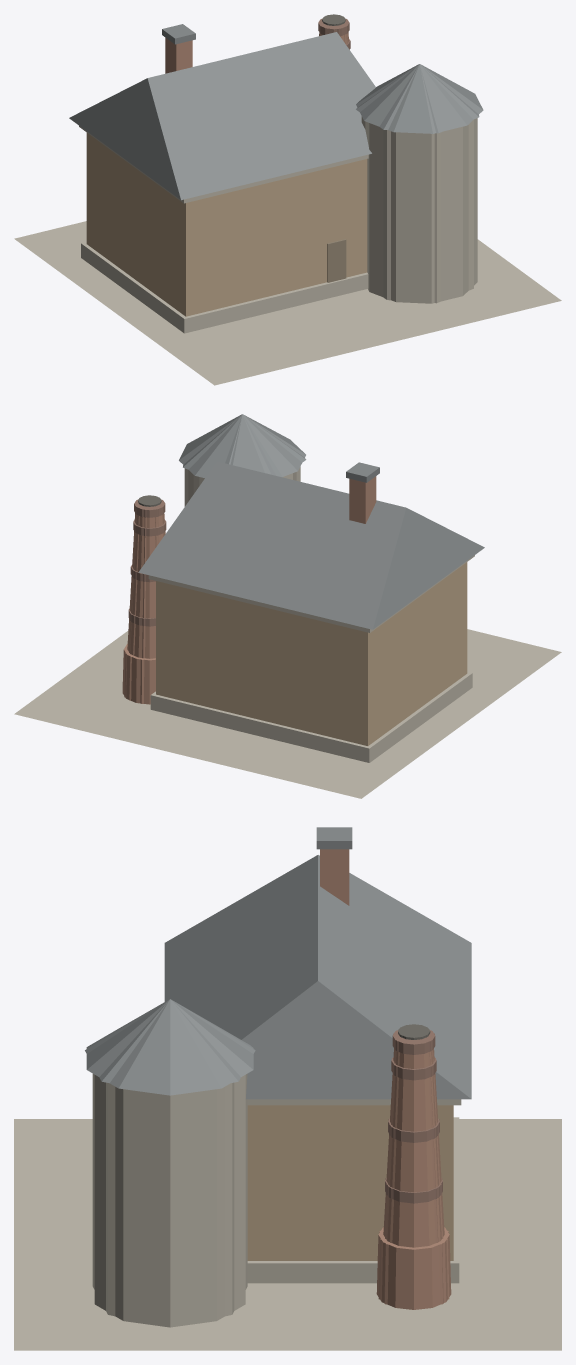
3 views of the same model, one above another, from view 1: azimuth 30°, elevation 25°; view 2: azimuth 150°, elevation 25°; view 3: azimuth 270°, elevation 25° (orthographic). The views are drawn at different scales.
Parts seen in each view (by area): view 1: Near, Mid; view 2: Near, Mid; view 3: Near, Mid, Far.
Part boxes in pixels (x1=…): Near: x1=14, y1=14, x2=561, y2=385; Mid: x1=318, y1=14, x2=479, y2=303; Near: x1=14, y1=414, x2=561, y2=798; Mid: x1=124, y1=414, x2=306, y2=703; Near: x1=14, y1=827, x2=561, y2=1350; Mid: x1=85, y1=1000, x2=448, y2=1316; Far: x1=378, y1=1050, x2=449, y2=1299.
Bounding box in the file's own units: 2 × 1.37 × 2.
